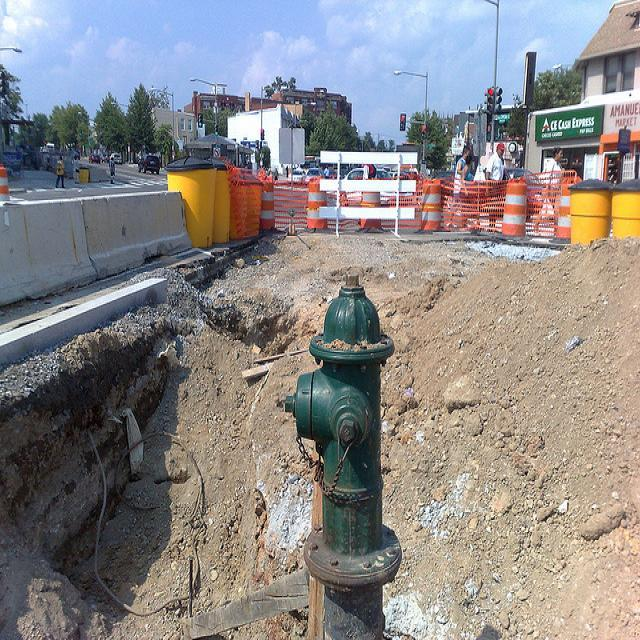fire_hydrant: (284, 272, 402, 640)
